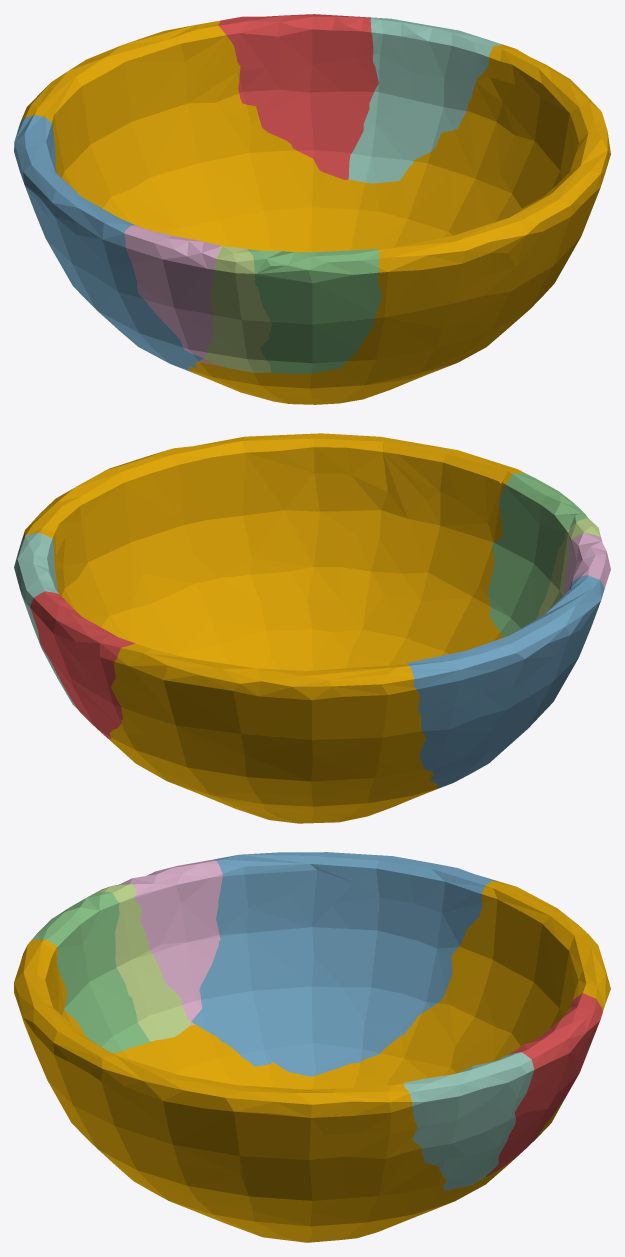
The model's file is fractured_70_8pcs.glb.
The picture shows the model from 3 angles, top to bottom: view 1: azimuth 30°, elevation 25°; view 2: azimuth 150°, elevation 25°; view 3: azimuth 270°, elevation 25°; orthographic projection.
Visible parts, largest first — view 1: piece_0.obj, piece_1.obj, piece_4.obj, piece_2.obj, piece_3.obj, piece_6.obj, piece_5.obj; view 2: piece_0.obj, piece_2.obj, piece_3.obj, piece_1.obj, piece_4.obj, piece_6.obj, piece_5.obj; view 3: piece_0.obj, piece_2.obj, piece_4.obj, piece_3.obj, piece_6.obj, piece_1.obj, piece_5.obj.
Part boxes in pixels (x1=…): piece_0.obj: x1=21, y1=20, x2=610, y2=404; piece_1.obj: x1=218, y1=14, x2=378, y2=179; piece_4.obj: x1=348, y1=17, x2=501, y2=183; piece_2.obj: x1=14, y1=115, x2=203, y2=371; piece_3.obj: x1=247, y1=249, x2=382, y2=373; piece_6.obj: x1=124, y1=225, x2=220, y2=358; piece_5.obj: x1=205, y1=245, x2=271, y2=372; piece_0.obj: x1=21, y1=433, x2=524, y2=823; piece_2.obj: x1=406, y1=575, x2=604, y2=788; piece_3.obj: x1=488, y1=473, x2=588, y2=637; piece_1.obj: x1=30, y1=591, x2=134, y2=739; piece_4.obj: x1=14, y1=532, x2=77, y2=709; piece_6.obj: x1=564, y1=533, x2=610, y2=594; piece_5.obj: x1=536, y1=518, x2=600, y2=619; piece_0.obj: x1=14, y1=881, x2=610, y2=1242; piece_2.obj: x1=191, y1=852, x2=497, y2=1076; piece_4.obj: x1=403, y1=1052, x2=534, y2=1190; piece_3.obj: x1=32, y1=891, x2=149, y2=1053; piece_6.obj: x1=119, y1=859, x2=222, y2=1021; piece_1.obj: x1=486, y1=993, x2=602, y2=1176; piece_5.obj: x1=94, y1=883, x2=190, y2=1041.
Bounding box in the file's own units: 0.9984 × 0.4281 × 1.
